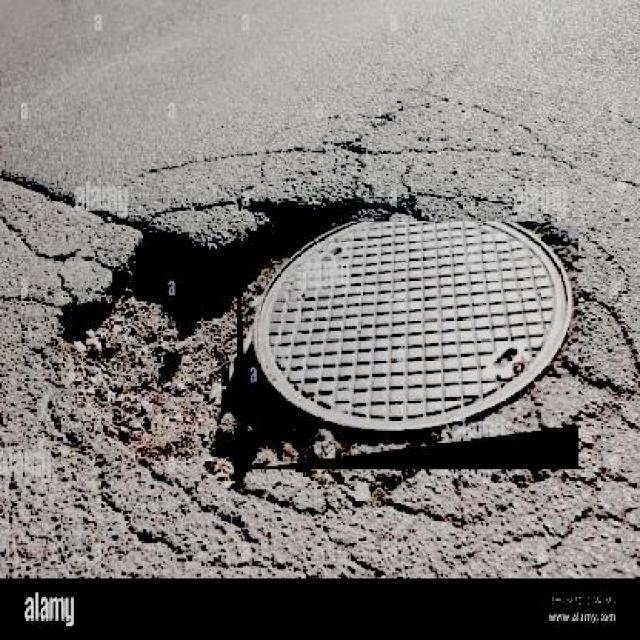Manhole: (236, 222, 578, 469)
Pothole: (68, 198, 224, 460), (188, 369, 270, 477), (247, 176, 379, 227)
